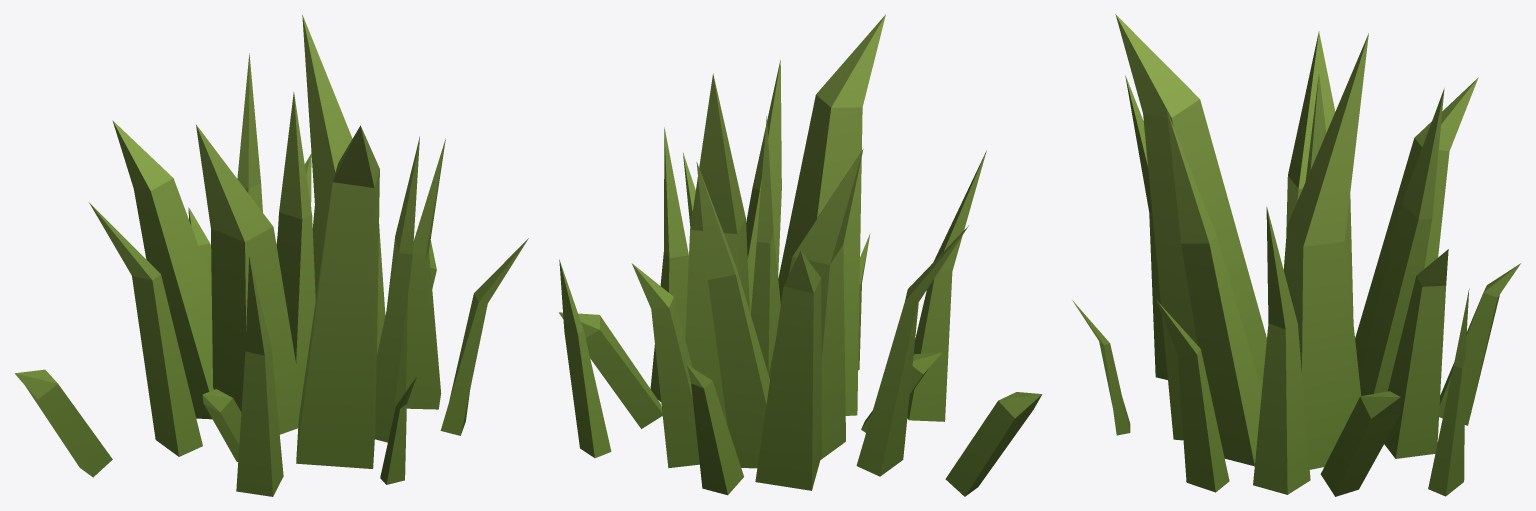
The model's file is Grass_03.fbx.
3 views of the same model, side by side, from view 1: azimuth 30°, elevation 25°; view 2: azimuth 150°, elevation 25°; view 3: azimuth 270°, elevation 25° (orthographic). The views are drawn at different scales.
Visible parts, largest first — view 1: Grass_03; view 2: Grass_03; view 3: Grass_03.
Part boxes in pixels (left/top/right/bottom): Grass_03: left=15, top=15, right=528, bottom=496; Grass_03: left=559, top=14, right=1042, bottom=496; Grass_03: left=1072, top=14, right=1520, bottom=496.
Size of the model in its own units: 0.9075 by 0.7384 by 0.7194.
